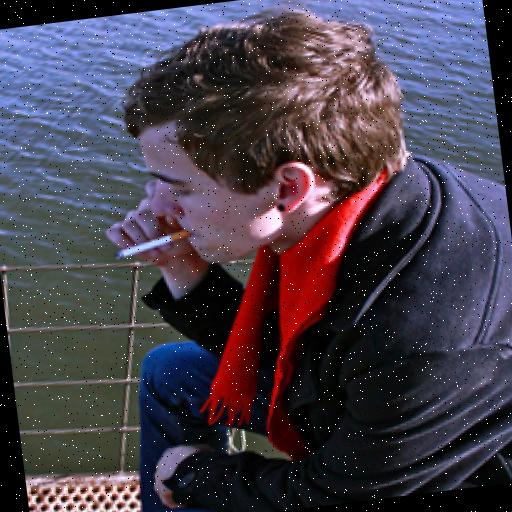terdeteksi merokok: (91, 132, 220, 292)
